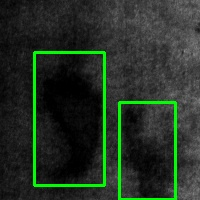patches: (34, 52, 104, 185), (119, 102, 175, 199)
